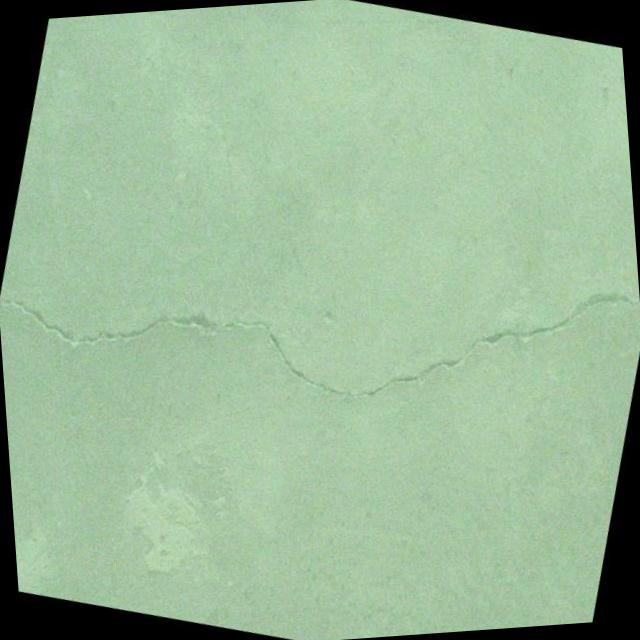crack: (0, 144, 640, 505)
